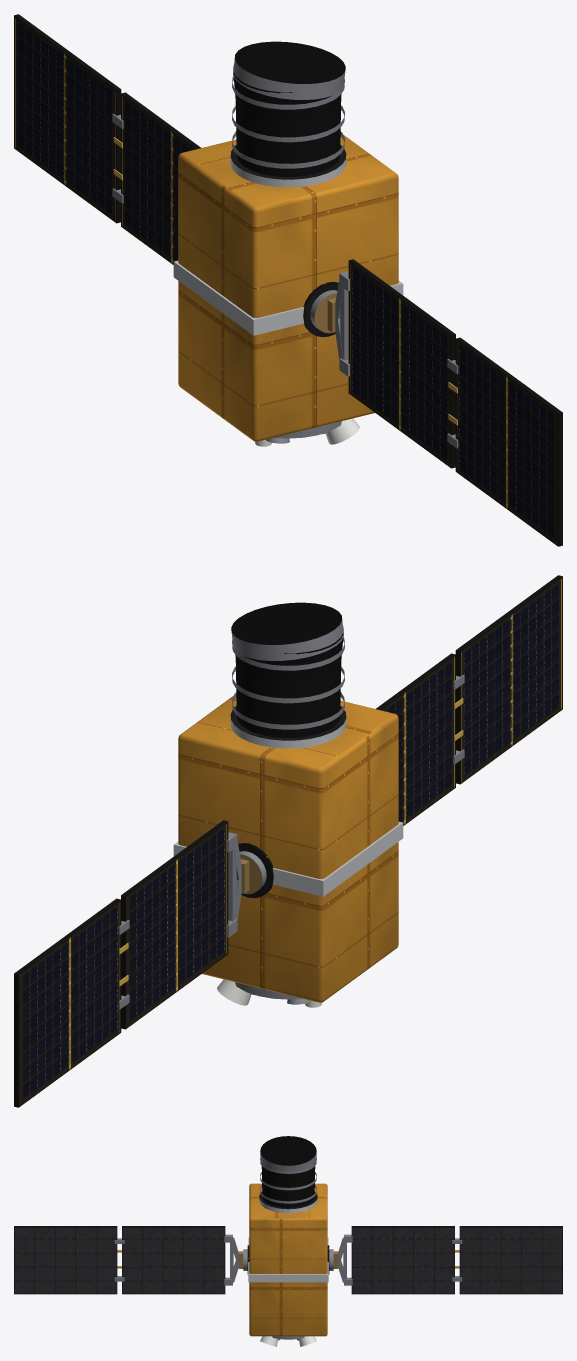
File: pelican.glb
3 views of the same model, one above another, from view 1: azimuth 30°, elevation 25°; view 2: azimuth 150°, elevation 25°; view 3: azimuth 270°, elevation 25° (orthographic). The views are drawn at different scales.
Visible parts, largest first — view 1: bus, wing-Y, wing+Y, sadm_-Y; view 2: bus, wing+Y, wing-Y, sadm_+Y; view 3: bus, wing+Y, wing-Y.
Part boxes in pixels (<box>): bus: <box>173,41,403,446</box>; wing-Y: <box>327,259,562,546</box>; wing+Y: <box>14,14,200,264</box>; sadm_-Y: <box>303,282,338,337</box>; bus: <box>173,602,403,1007</box>; wing+Y: <box>14,820,249,1107</box>; wing-Y: <box>376,575,562,825</box>; sadm_+Y: <box>238,843,273,898</box>; bus: <box>248,1136,328,1346</box>; wing+Y: <box>333,1226,562,1294</box>; wing-Y: <box>14,1226,243,1294</box>.
Bounding box in the file's own units: 0.8 × 1.94 × 5.04.
Materials: 14 (4 with a texture image).
